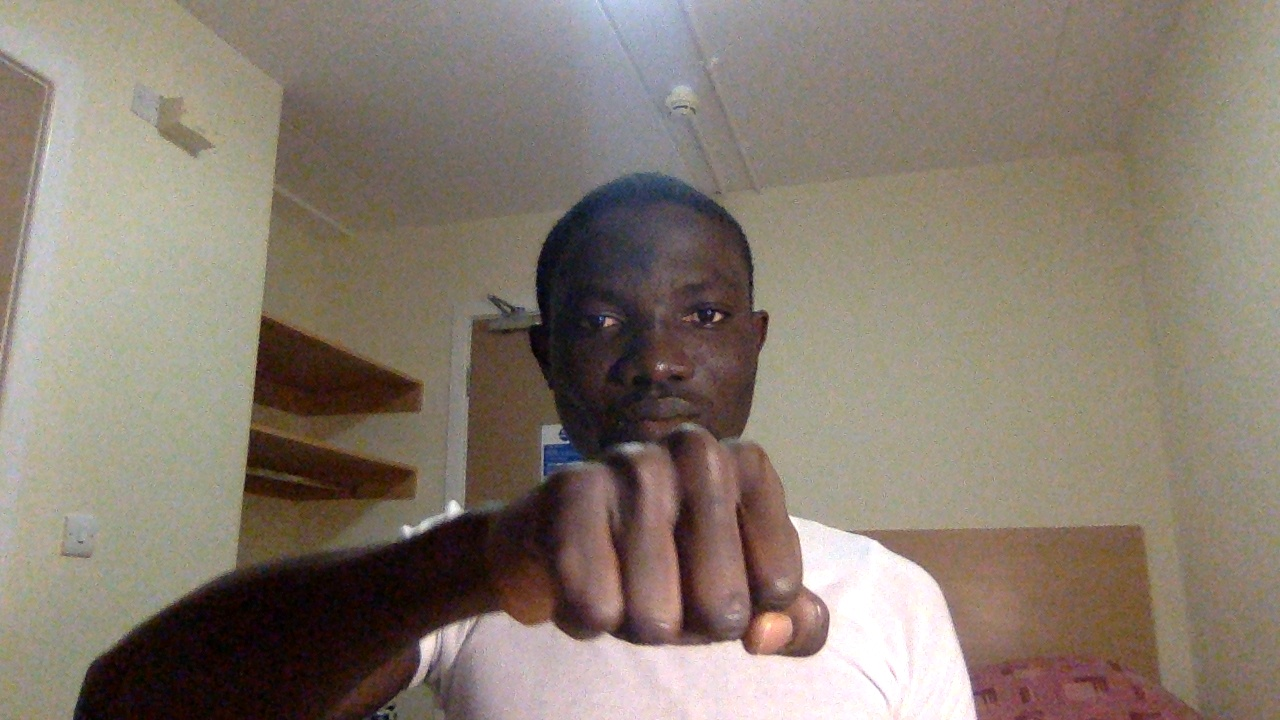Yes: (482, 418, 857, 672)
